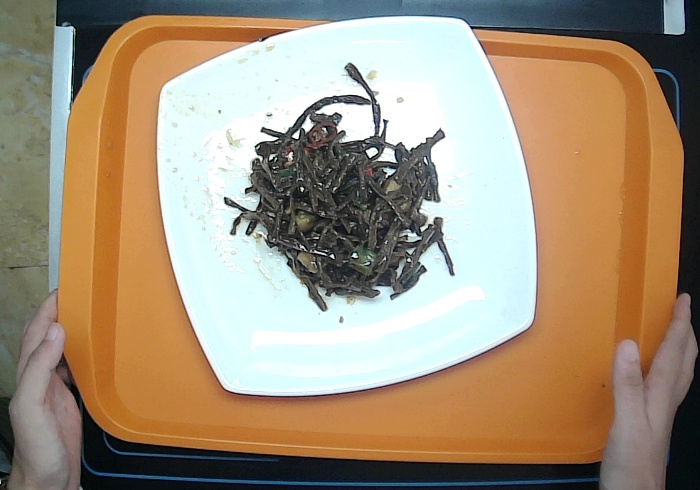ZNLD-Bai_Fang_Pan: (141, 4, 551, 407)
